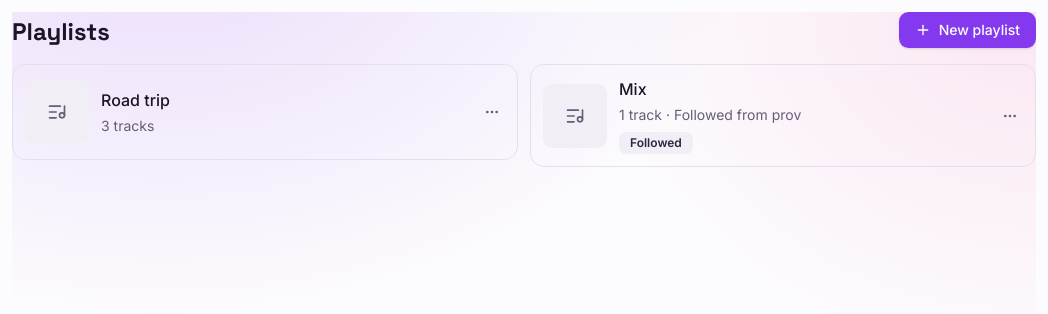
Test: Playlists page — the menu of each playlist › a right click on a card opens the same menu
Right-click the link "Road trip 3 tracks": x=57, y=112 [12,64,518,160]
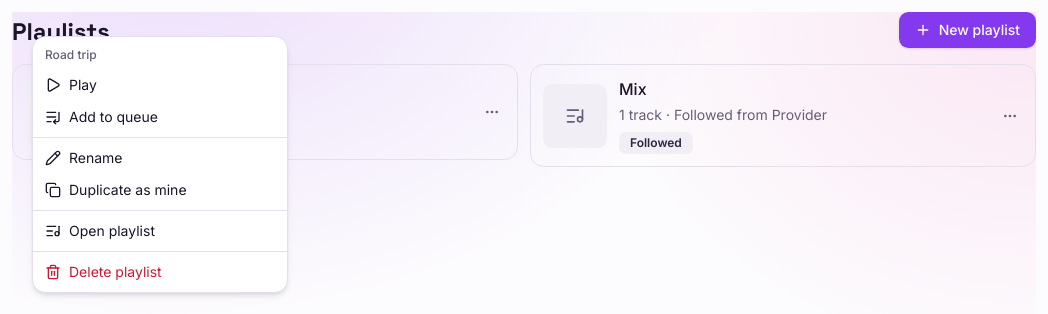
Expected: the menu named "More actions for Road trip" is shown, [32,36,288,293]
Expected: the text "Rename" is shown, [69,149,122,166]
